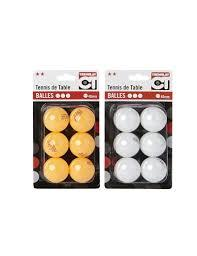ball_pingpong: (140, 156, 167, 184), (67, 157, 96, 183), (42, 156, 69, 183), (140, 106, 168, 132), (140, 133, 168, 159), (114, 157, 142, 182), (70, 106, 96, 132), (69, 132, 95, 158), (113, 107, 140, 132), (44, 133, 69, 159), (113, 133, 140, 157), (44, 107, 70, 131)
